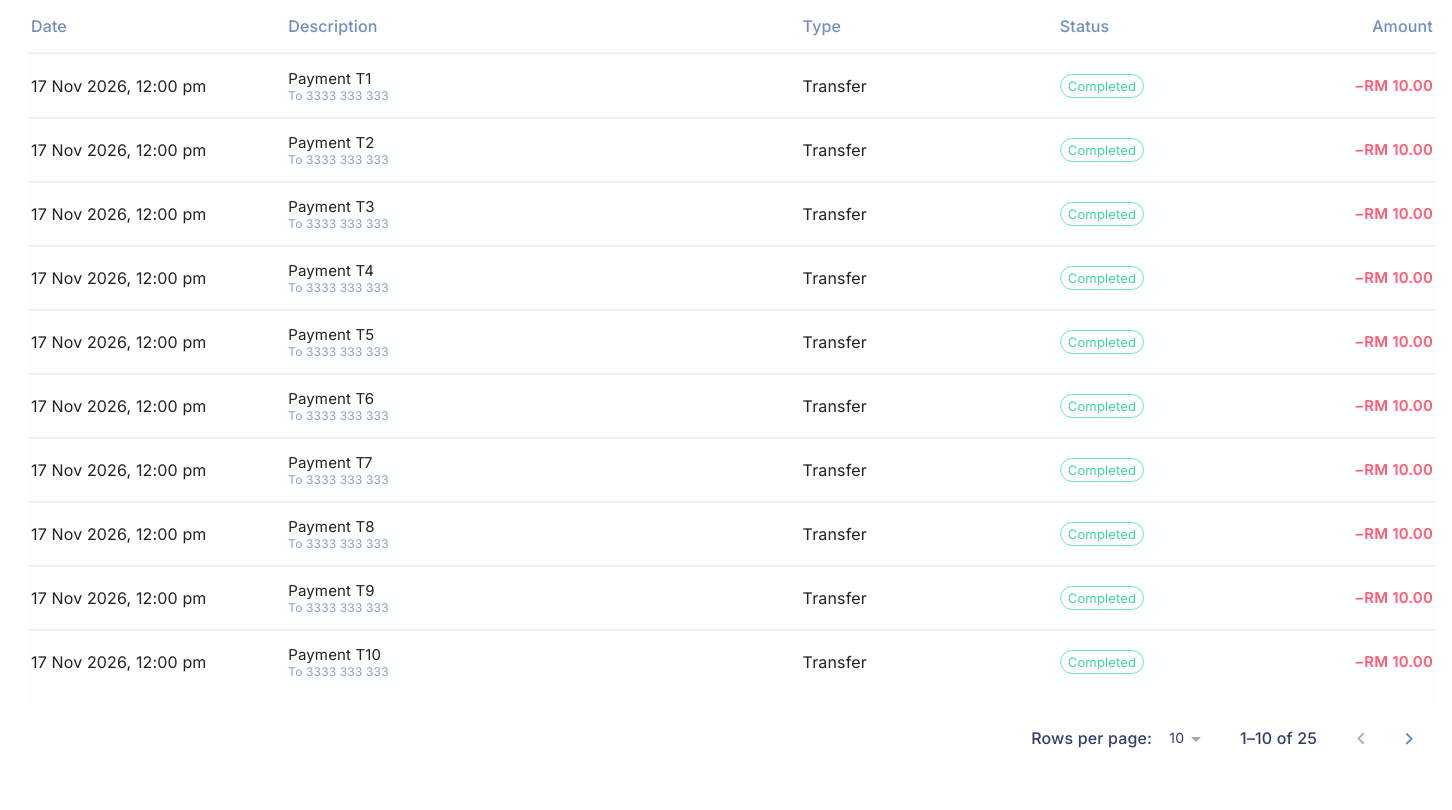
Test: transactions page › switches account with the selector and starts again at the first page
(page scrolled)
Expected: the text "Payment T1" is shown, x1=288 y1=69 x2=372 y2=88
Click the button named "go to next page": [1409, 739] box x1=1385 y1=715 x2=1433 y2=763
(page scrolled)
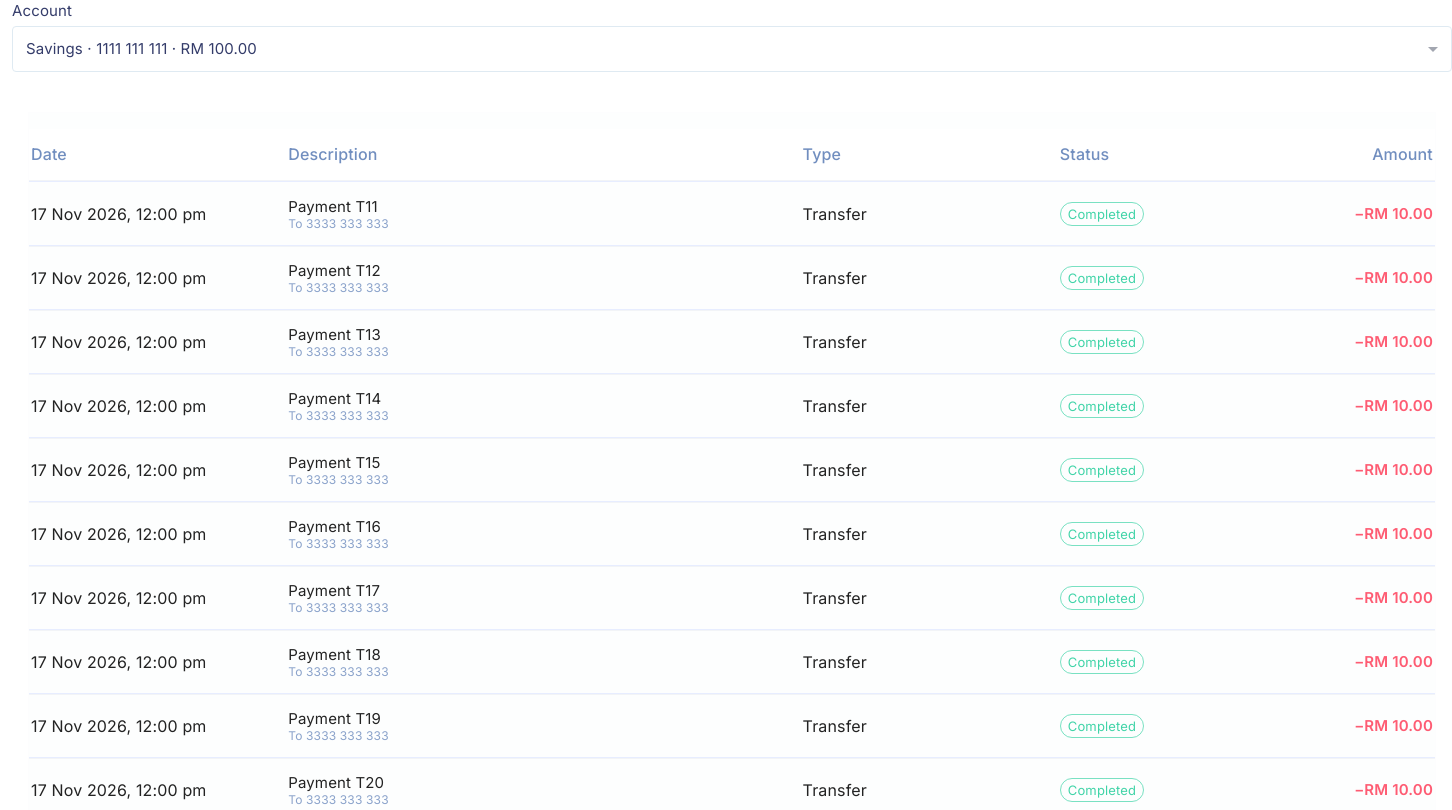
Now the text "Payment T11" is shown, box x1=288 y1=198 x2=389 y2=216
Click the dropdown named "account": [141, 49] box x1=26 y1=39 x2=257 y2=58
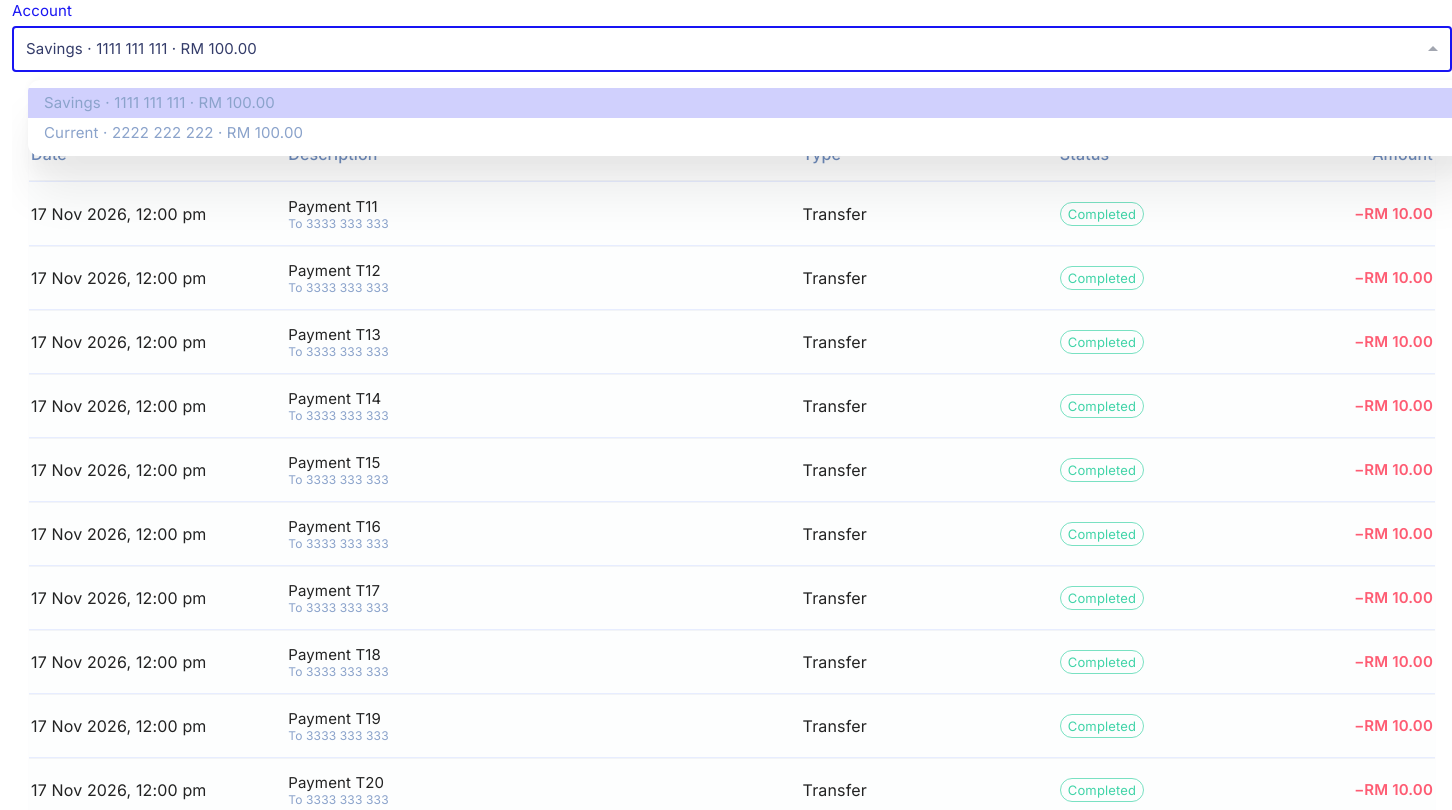
Click the option "Current · 2222 222 222 · RM 100.00": [174, 132] box x1=44 y1=123 x2=303 y2=142
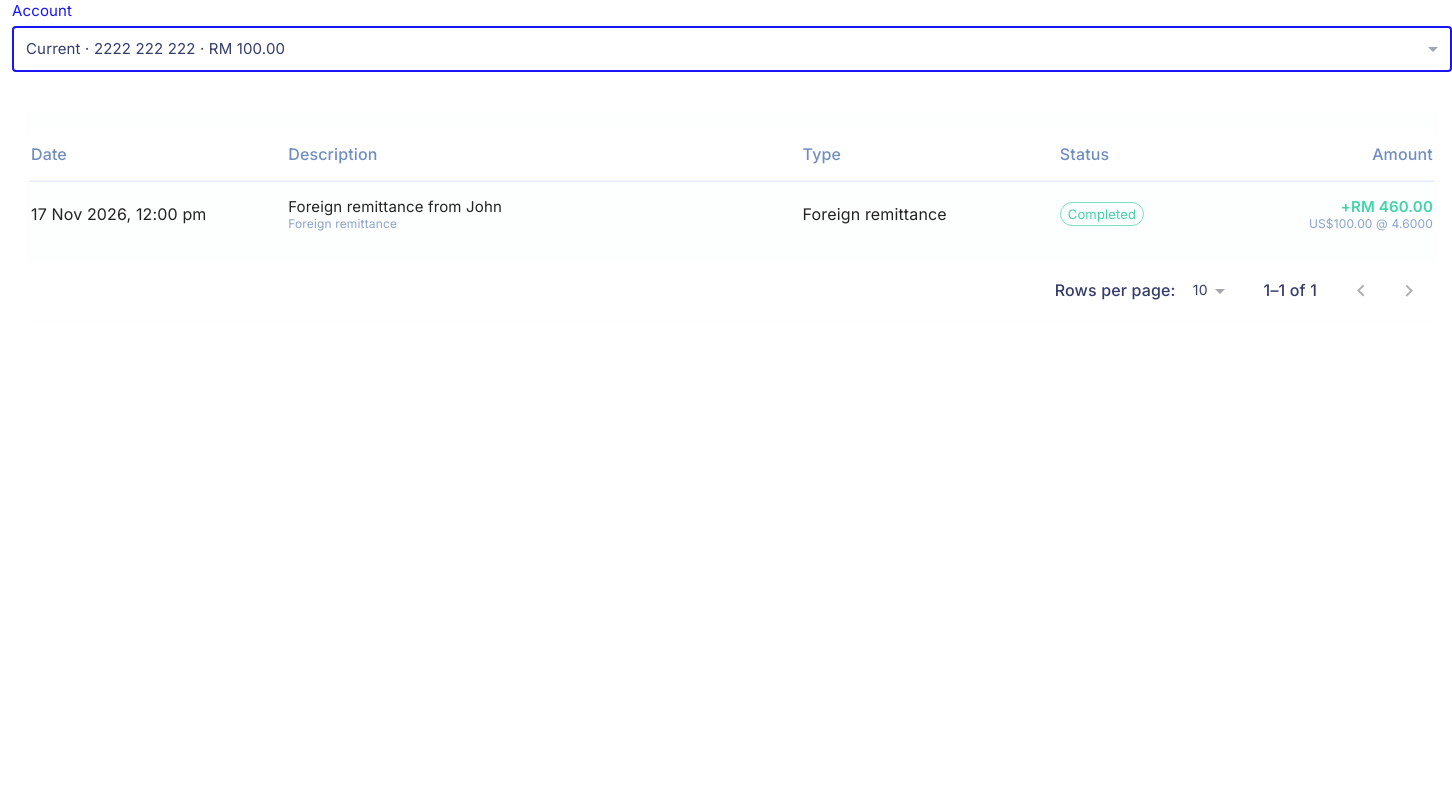
Now the text "Foreign remittance from John" is shown, box x1=288 y1=198 x2=502 y2=216
Now the text "Payment T11" is gone
